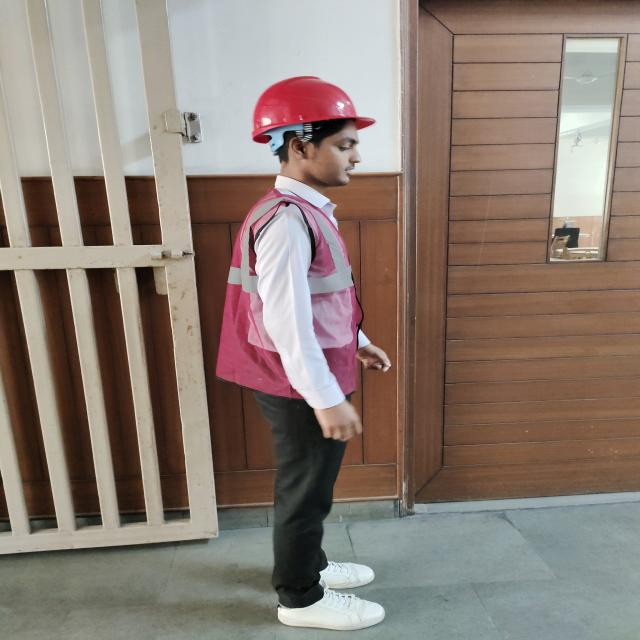safe: (215, 75, 393, 633)
